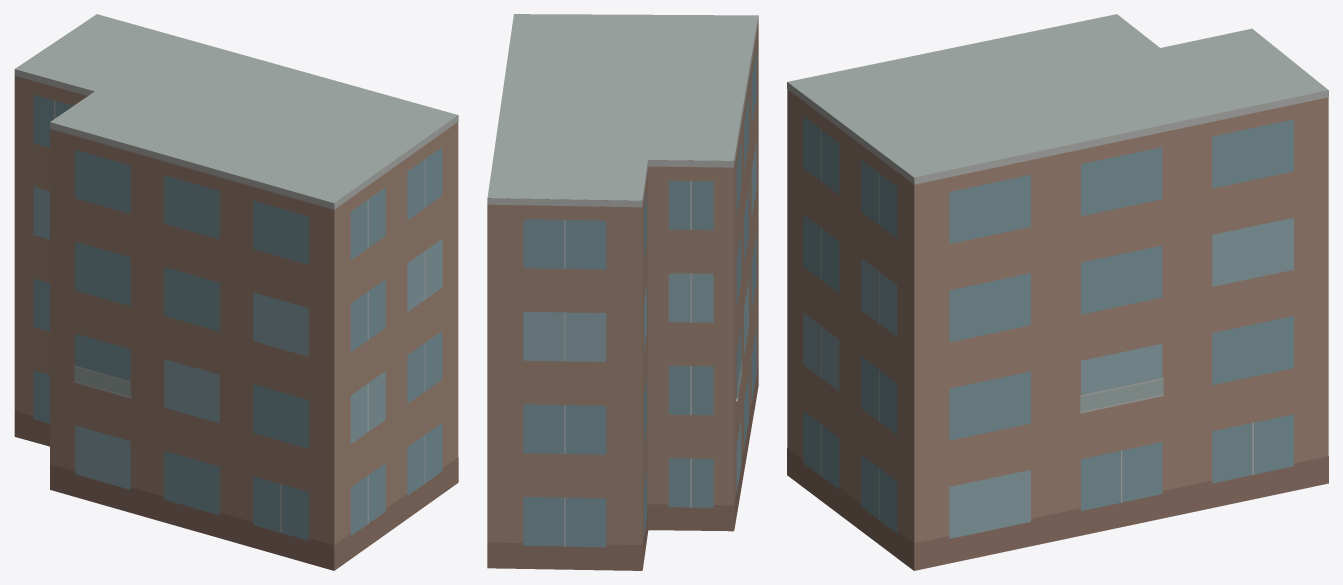
Rendered from survey-upis-32656681.glb.
The picture shows the model from 3 angles, left to right: view 1: azimuth 30°, elevation 25°; view 2: azimuth 150°, elevation 25°; view 3: azimuth 270°, elevation 25°; orthographic projection. The views are drawn at different scales.
Parts seen in each view (by area): view 1: survey-upis-32656681.tmp; view 2: survey-upis-32656681.tmp; view 3: survey-upis-32656681.tmp.
Boxes of the visible parts, x1,y1,x2,y2 form: survey-upis-32656681.tmp: [14, 14, 458, 570]; survey-upis-32656681.tmp: [487, 14, 758, 570]; survey-upis-32656681.tmp: [787, 14, 1328, 570].
Size of the model in its own units: 12.15 by 13.6 by 16.99.
